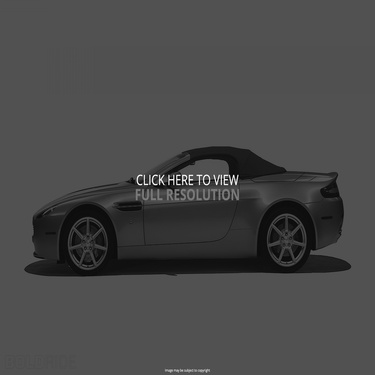car: (21, 139, 349, 282)
